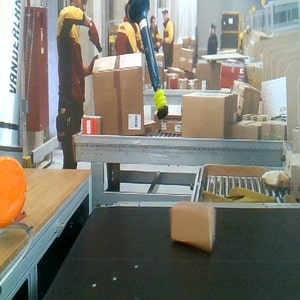box: (169, 200, 218, 252)
